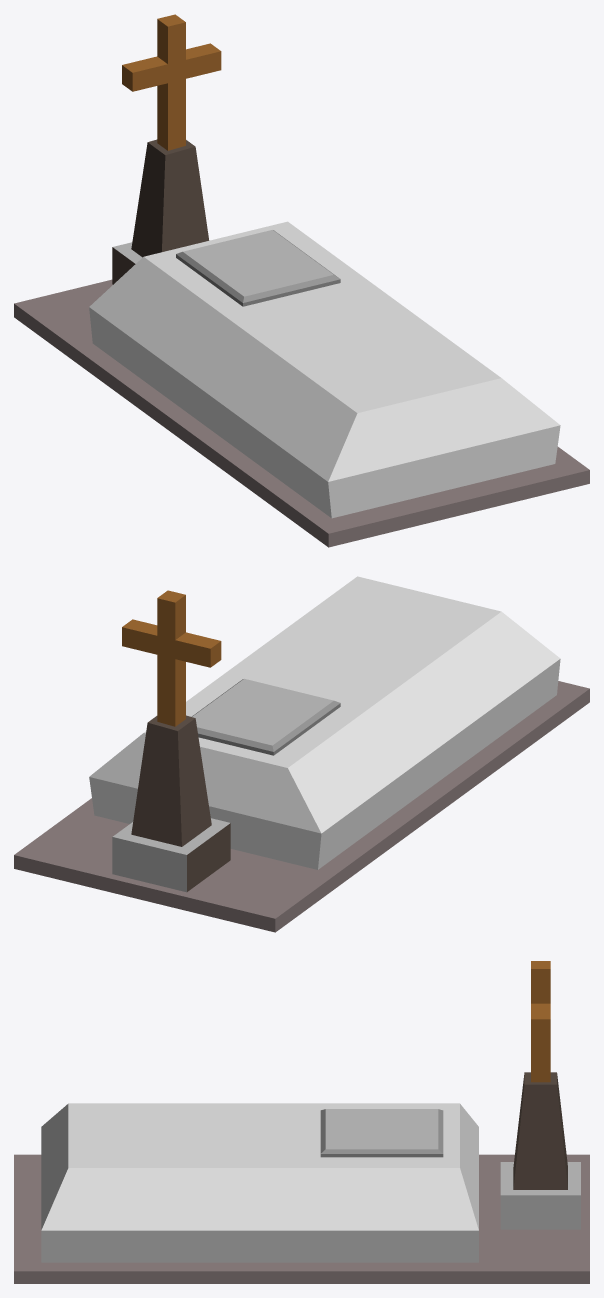
Rendered from HWN20_Grave_30.glb.
3 renders of one model, top to bottom at view 1: azimuth 30°, elevation 25°; view 2: azimuth 150°, elevation 25°; view 3: azimuth 270°, elevation 25°, orthographic. The views are drawn at different scales.
Parts seen in each view (by area): view 1: HWN20_Grave_30; view 2: HWN20_Grave_30; view 3: HWN20_Grave_30.
Part boxes in pixels (left/top/right/bottom): HWN20_Grave_30: left=14, top=14, right=589, bottom=547; HWN20_Grave_30: left=14, top=576, right=589, bottom=932; HWN20_Grave_30: left=14, top=961, right=589, bottom=1283.
Size of what is drawn, in the model's own units: 0.9895 by 1.03 by 2.06.
Materials: 1 (1 with a texture image).
